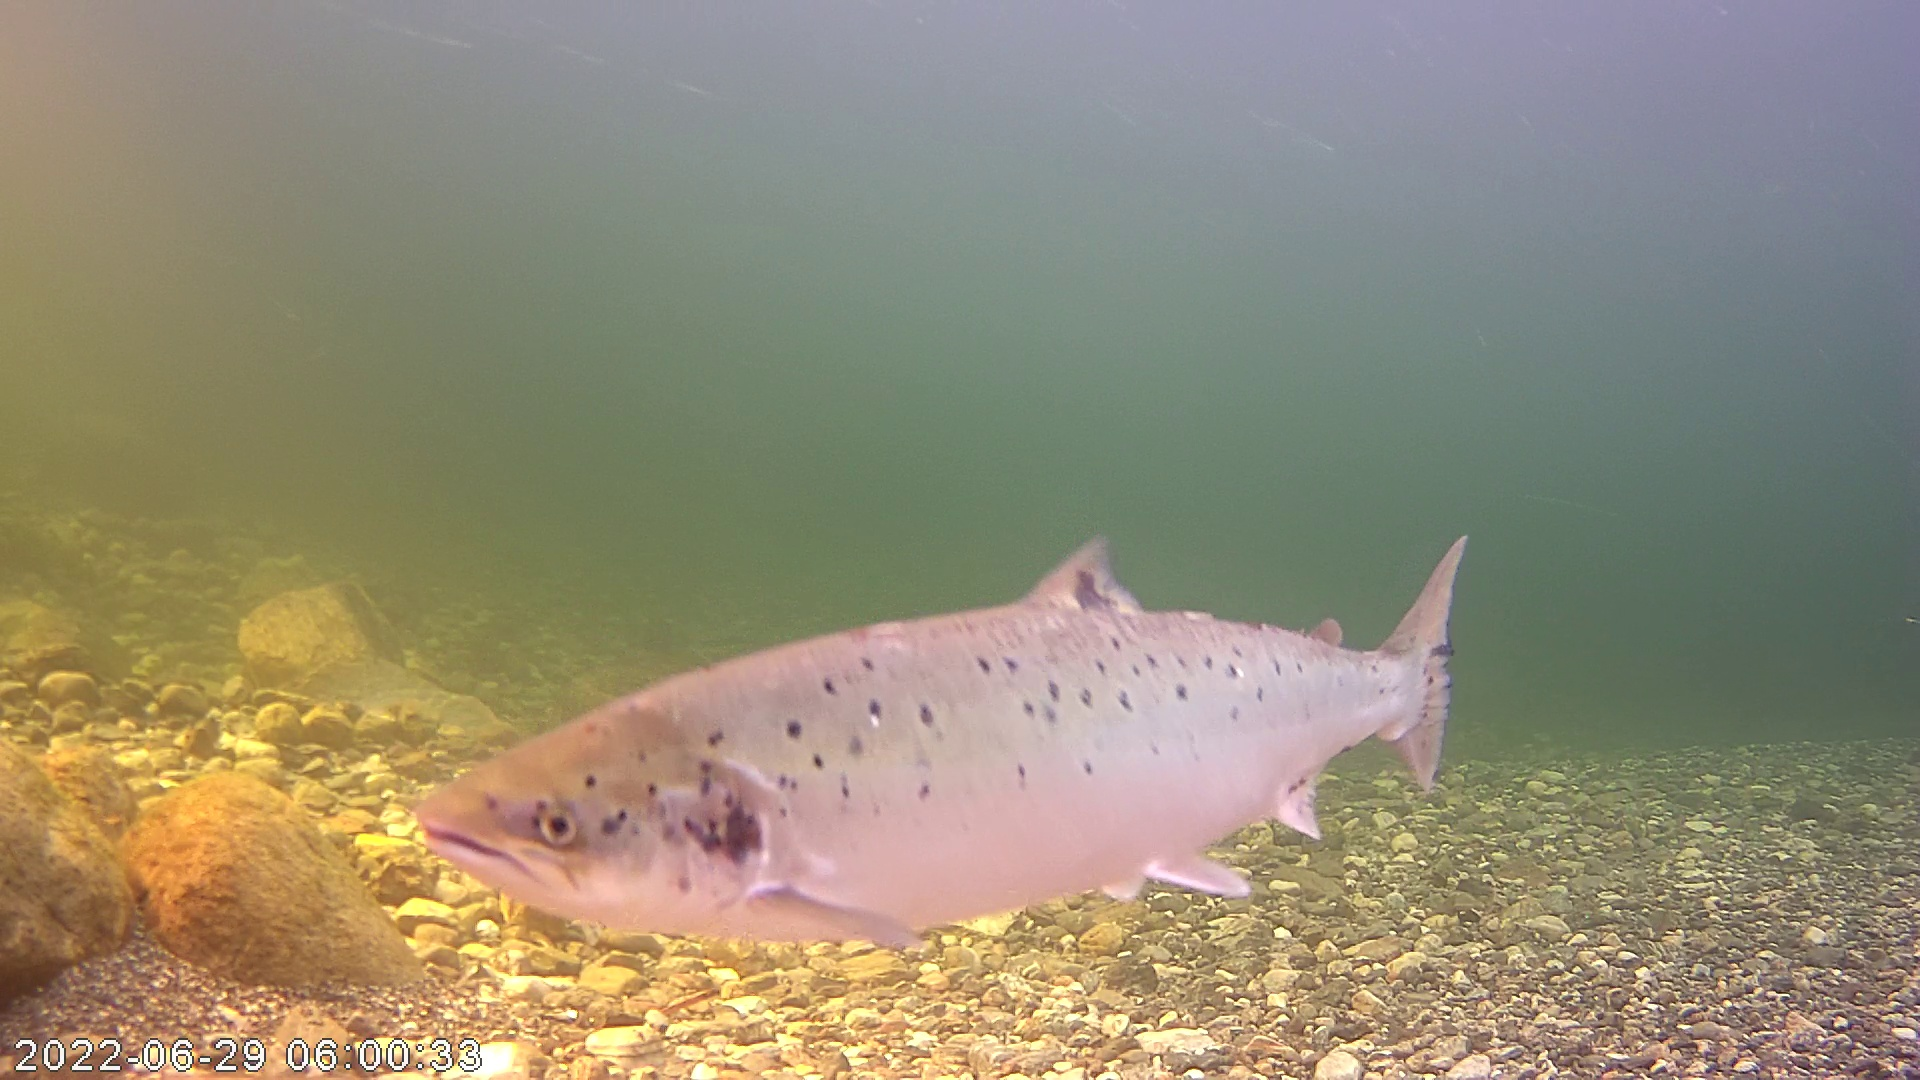salmon: (386, 456, 1462, 953)
